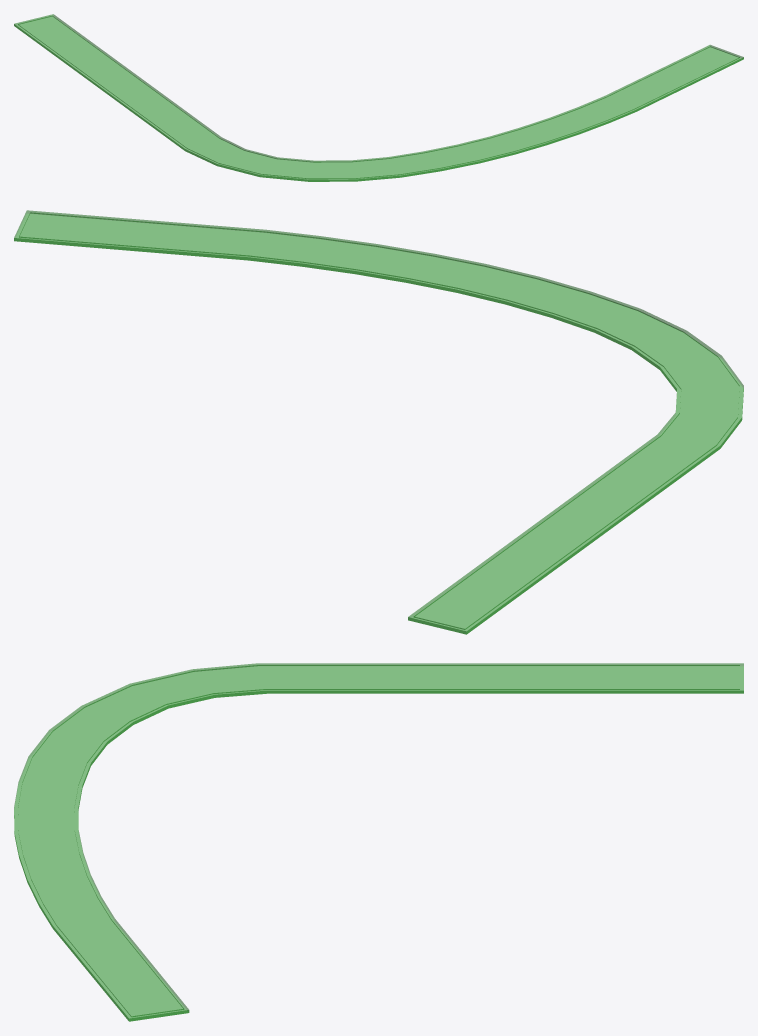
The model's file is wall11.obj.
3 views of the same model, one above another, from view 1: azimuth 30°, elevation 25°; view 2: azimuth 150°, elevation 25°; view 3: azimuth 270°, elevation 25° (orthographic). The views are drawn at different scales.
Size of the model in its own units: 153 by 0.6423 by 133.
